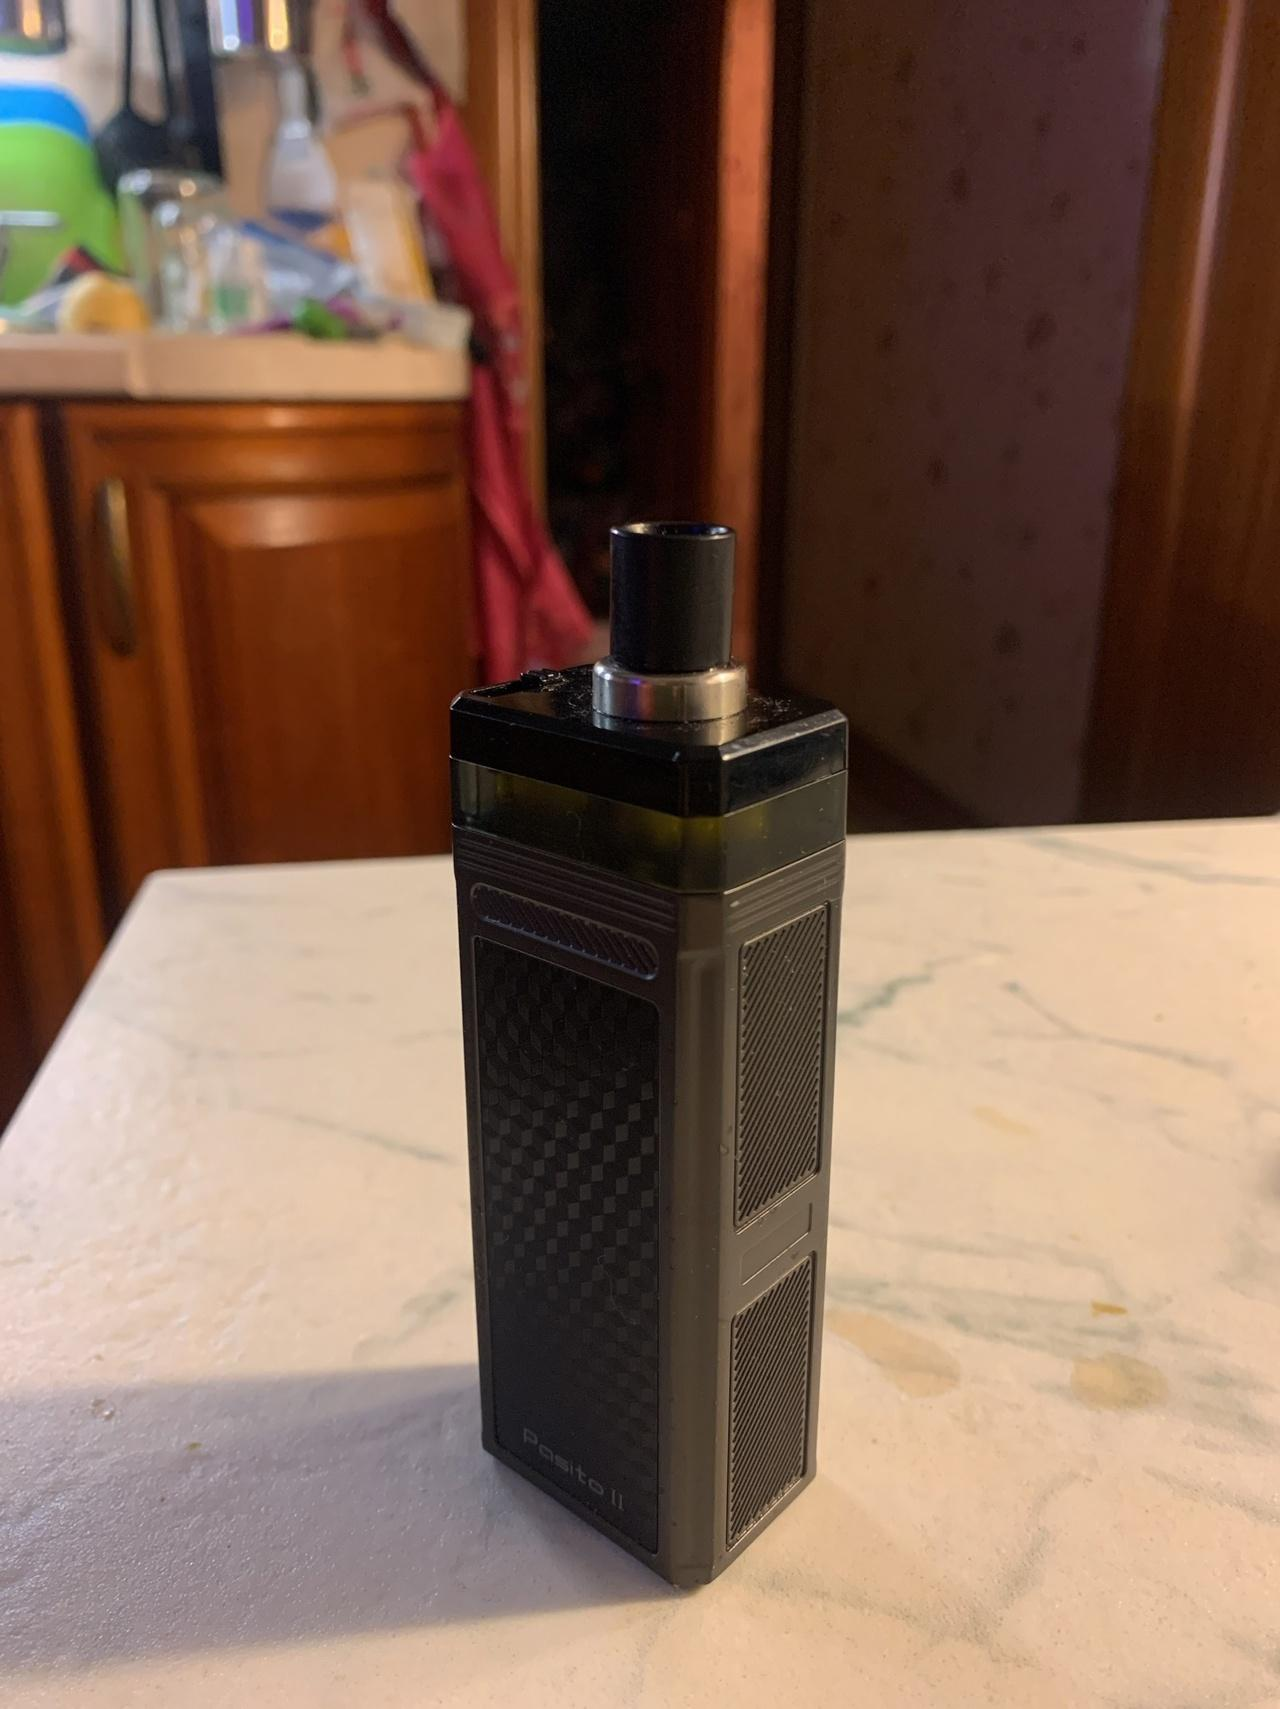Vape: (450, 520, 848, 1587)
